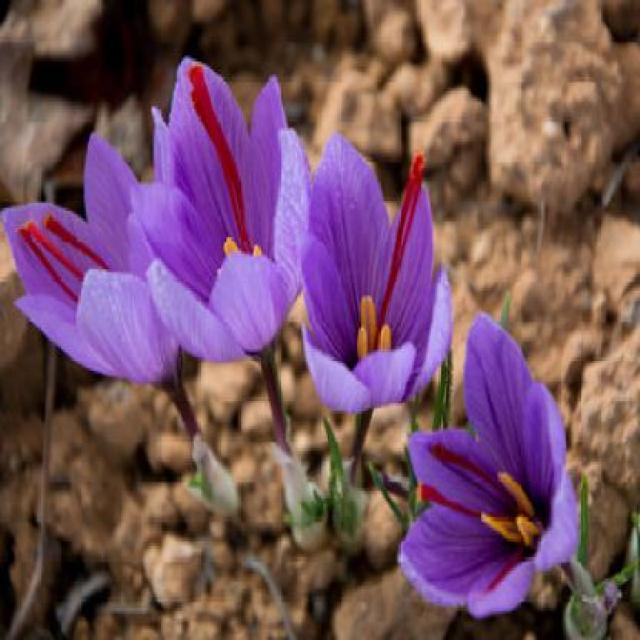Flower: (138, 44, 314, 365), (402, 309, 581, 611), (1, 140, 192, 402), (298, 122, 440, 423)
stigma: (181, 63, 255, 257), (374, 150, 431, 342), (184, 88, 250, 251), (428, 441, 518, 514), (14, 225, 81, 305), (40, 214, 114, 274), (25, 222, 88, 283), (414, 479, 488, 521), (480, 541, 534, 597)
